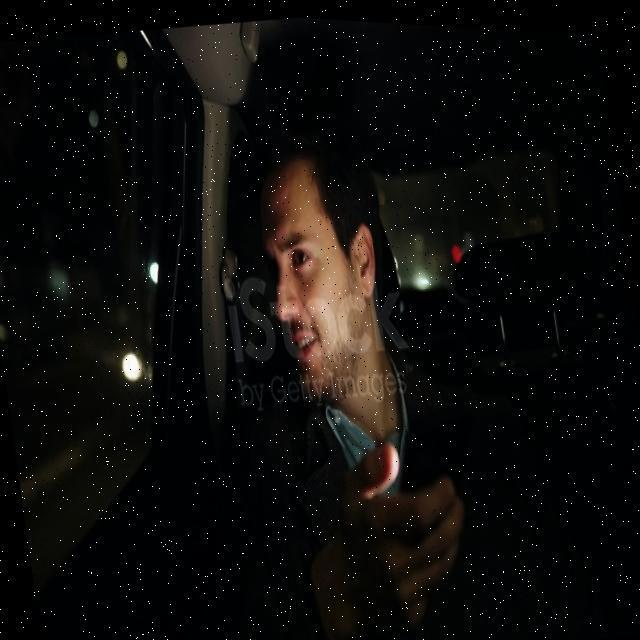PhoneCall: (386, 392, 485, 536)
